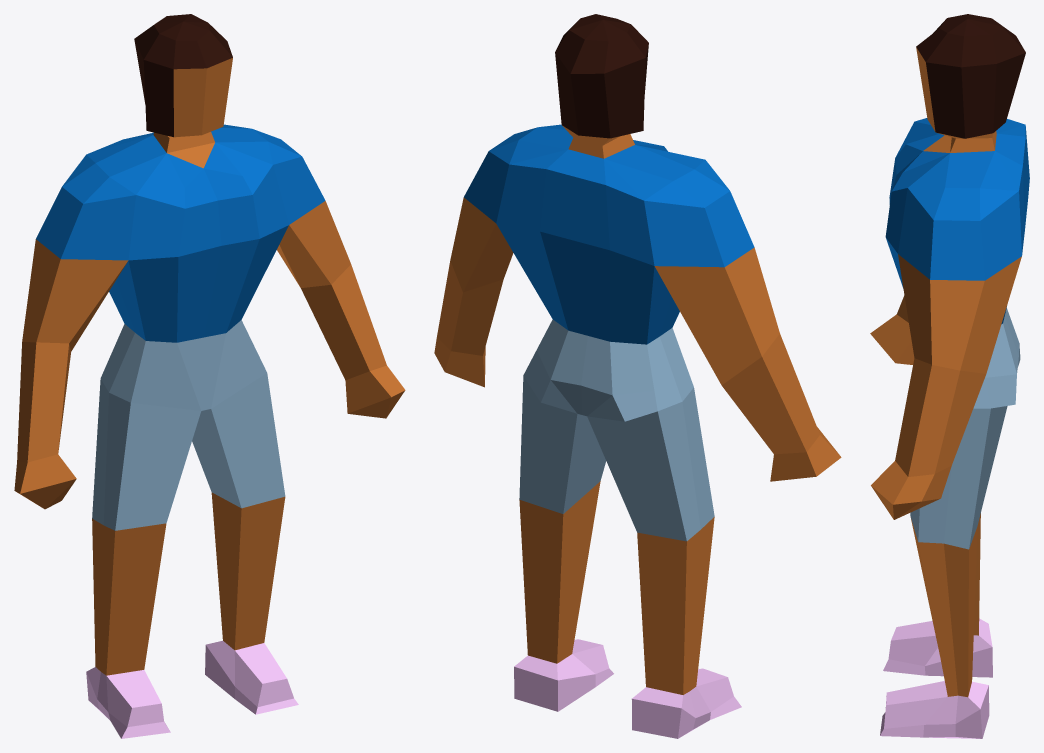
Rendered from player.obj.
The picture shows the model from 3 angles, left to right: view 1: azimuth 30°, elevation 25°; view 2: azimuth 150°, elevation 25°; view 3: azimuth 270°, elevation 25°; orthographic projection. The views are drawn at different scales.
Parts seen in each view (by area): view 1: Plane; view 2: Plane; view 3: Plane.
Part boxes in pixels (x1,y1,x2,y2): Plane: (14,14,405,738); Plane: (434,14,841,738); Plane: (870,14,1029,738).
Size of the model in its own units: 0.9939 by 1.66 by 0.3535.
